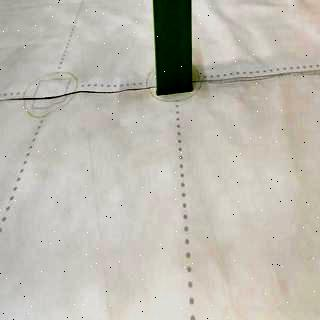greenbox: (152, 1, 198, 100)
